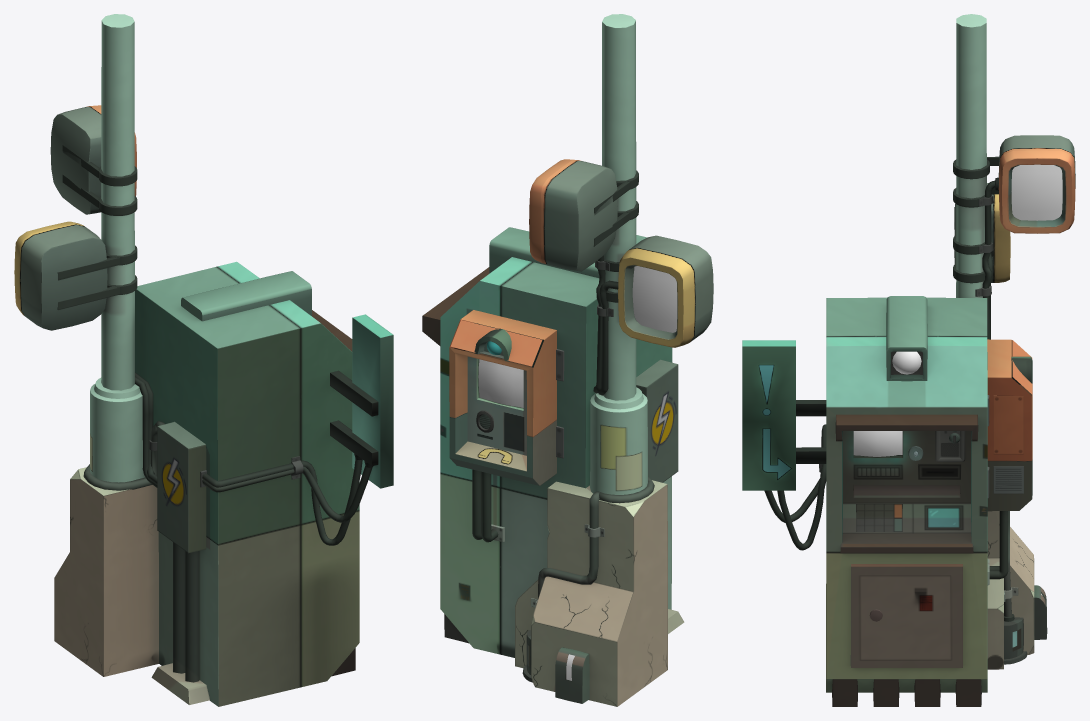
The model's file is checkpoint.fbx.
The picture shows the model from 3 angles, left to right: view 1: azimuth 30°, elevation 25°; view 2: azimuth 150°, elevation 25°; view 3: azimuth 270°, elevation 25°; orthographic projection. The views are drawn at different scales.
Visible parts, largest first — view 1: ATM.002; view 2: ATM.002, ATM.003_ATM.004; view 3: ATM.002, ATM.003_ATM.004.
Part boxes in pixels (x1,y1,x2,y2): ATM.002: [14, 14, 393, 706]; ATM.002: [422, 14, 713, 706]; ATM.003_ATM.004: [478, 266, 677, 680]; ATM.002: [742, 14, 1075, 706]; ATM.003_ATM.004: [853, 164, 1062, 595].
Bounding box in the file's own units: 382 × 847 × 419.
